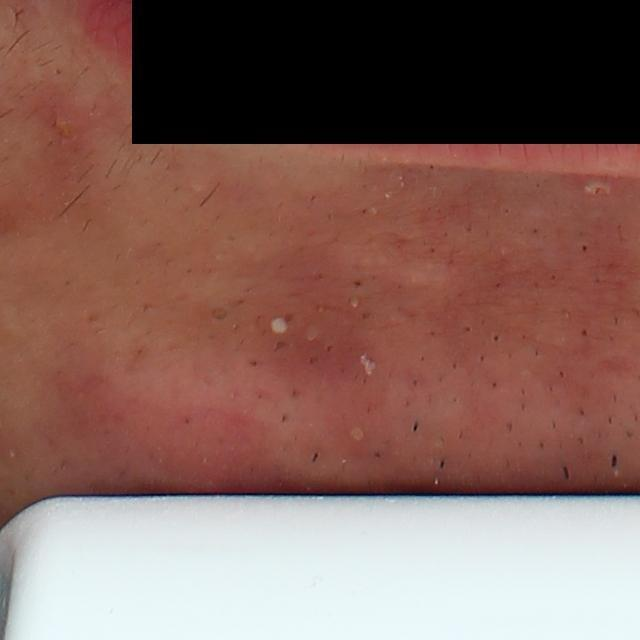comedo: (208, 300, 232, 330)
hypertrophic_scar: (337, 242, 456, 289)
pustule: (571, 174, 617, 201), (256, 310, 292, 342), (346, 420, 382, 451)
